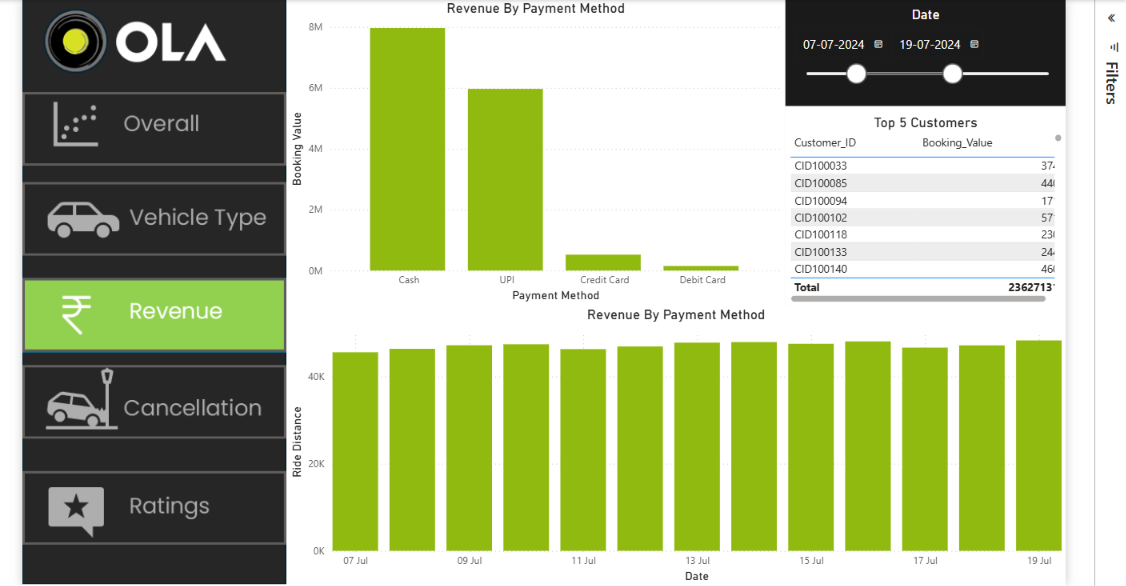

This screenshot's page, from the dashboard's own definition file:
{"tool":"powerbi","page":{"name":"Revenue","canvas":[1280,720],"ordinal":2},"visuals":[{"type":"actionButton","box":[0,112.5,323.8,90.6],"z":0},{"type":"actionButton","box":[0,223.7,323.8,90.6],"z":1000},{"type":"actionButton","box":[0,341.7,323.8,90.6],"z":2000},{"type":"actionButton","box":[0,447.3,323.8,90.6],"z":3000},{"type":"actionButton","box":[0,577.7,323.8,90.6],"z":4000},{"type":"columnChart","title":"Revenue By Payment Method","fields":{"Y":["Sum(July.Booking_Value)"],"Category":["July.Payment_Method"]},"box":[323.8,0,612,376],"z":5000},{"type":"columnChart","title":"Revenue By Payment Method","fields":{"Y":["Sum(July.Ride_Distance)"],"Category":["July.Date"]},"box":[323.8,376,956.4,344.4],"z":6000},{"type":"slicer","title":"Date","fields":{"Values":["July.Date"]},"box":[935.9,0,344.4,130.4],"z":7000},{"type":"tableEx","title":"Top 5 Customers","fields":{"Values":["July.Customer_ID","Sum(July.Booking_Value)"]},"box":[935.9,130.4,344.4,245.6],"z":8000}]}

Visuals, with their boxes on the page's 1280x720 design canvas (x1, y1, x2, y2). These are canvas units, not pixel positions in the 1126x586 screenshot, which may show the page scaled, cropped or inside an application window:
actionButton: [x1=0, y1=112, x2=324, y2=203]
actionButton: [x1=0, y1=224, x2=324, y2=314]
actionButton: [x1=0, y1=342, x2=324, y2=432]
actionButton: [x1=0, y1=447, x2=324, y2=538]
actionButton: [x1=0, y1=578, x2=324, y2=668]
"Revenue By Payment Method" columnChart: [x1=324, y1=0, x2=936, y2=376]
"Revenue By Payment Method" columnChart: [x1=324, y1=376, x2=1280, y2=720]
"Date" slicer: [x1=936, y1=0, x2=1280, y2=130]
"Top 5 Customers" tableEx: [x1=936, y1=130, x2=1280, y2=376]
